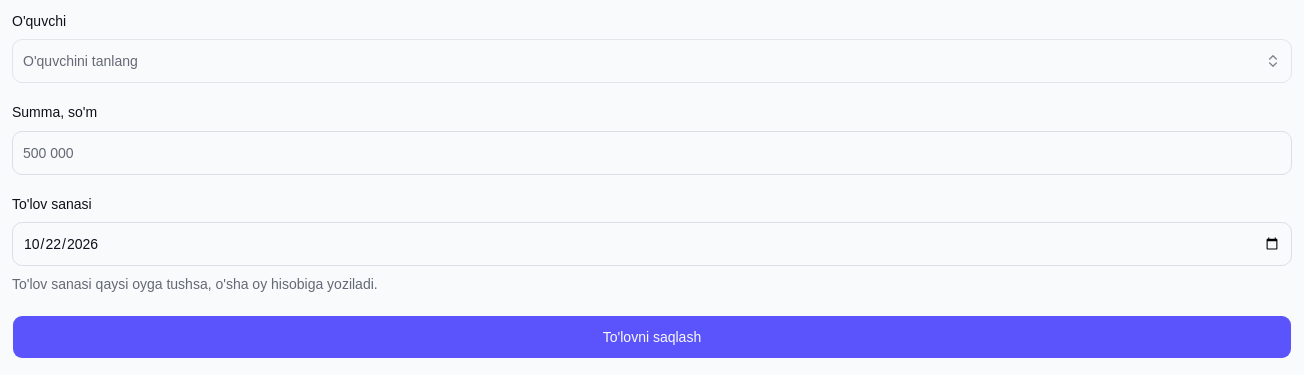
Test: PaymentForm › summani yozish jarayonida guruhlaydi
Type "1250000" into the field labelled "Summa, so'm" at x=652, y=152, box [12,130,1292,174]
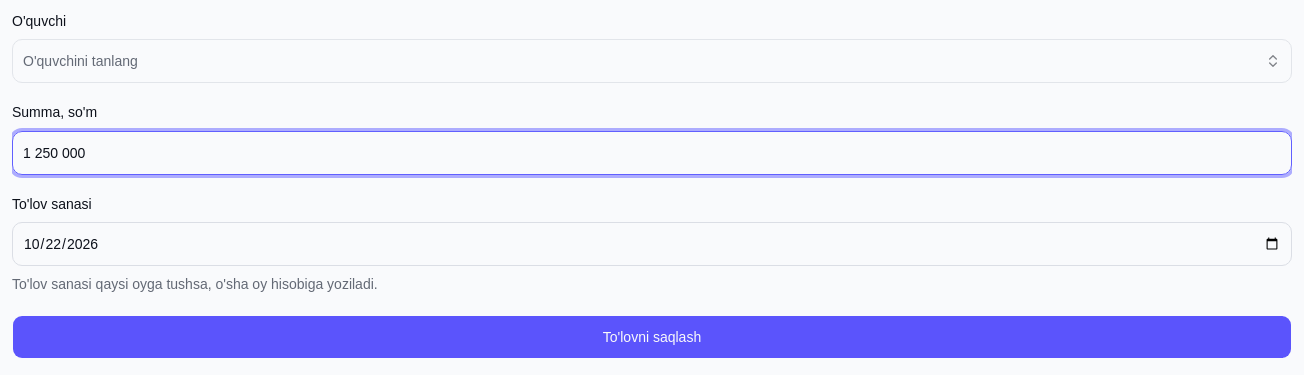
Now the field labelled "Summa, so'm" holds "1 250 000", box [12,130,1292,174]
